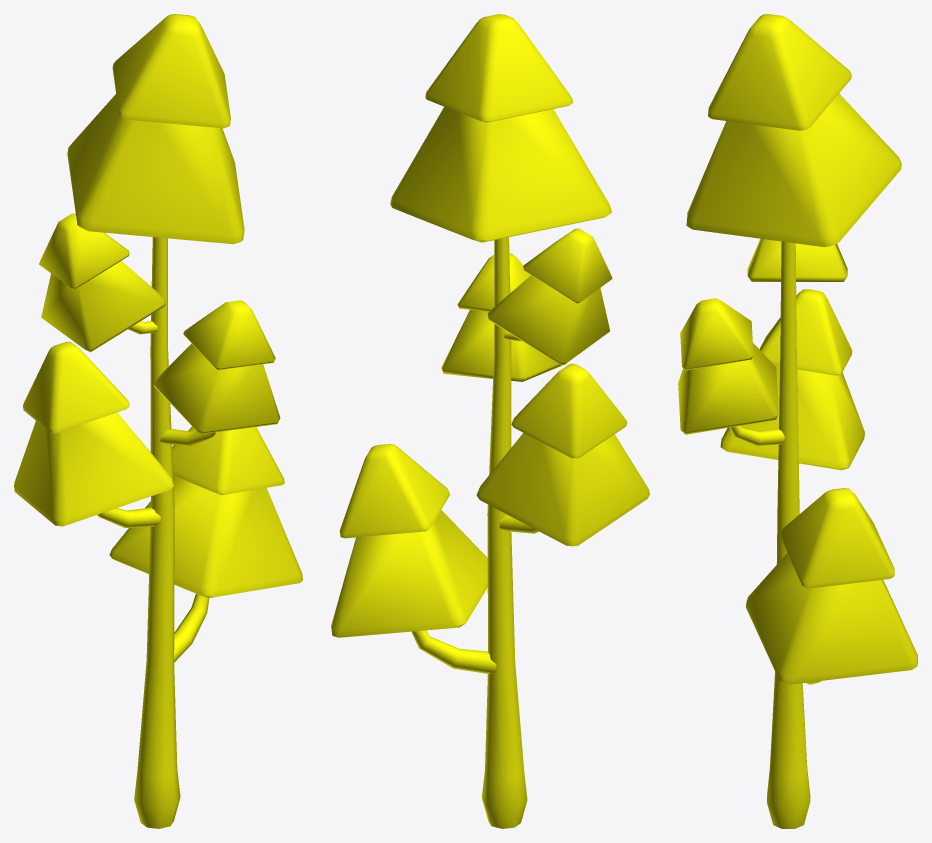
Rendered from kaykit-tree-4-c-color-1.glb.
3 renders of one model, left to right at view 1: azimuth 30°, elevation 25°; view 2: azimuth 150°, elevation 25°; view 3: azimuth 270°, elevation 25°, orthographic. The views are drawn at different scales.
Visible parts, largest first — view 1: Tree_4_C_Color1; view 2: Tree_4_C_Color1; view 3: Tree_4_C_Color1.
Part boxes in pixels (x1,y1,x2,y2): Tree_4_C_Color1: (14,14,302,828); Tree_4_C_Color1: (331,14,649,828); Tree_4_C_Color1: (678,14,917,828).
Bounding box in the file's own units: 3.74 × 10.77 × 2.87.
